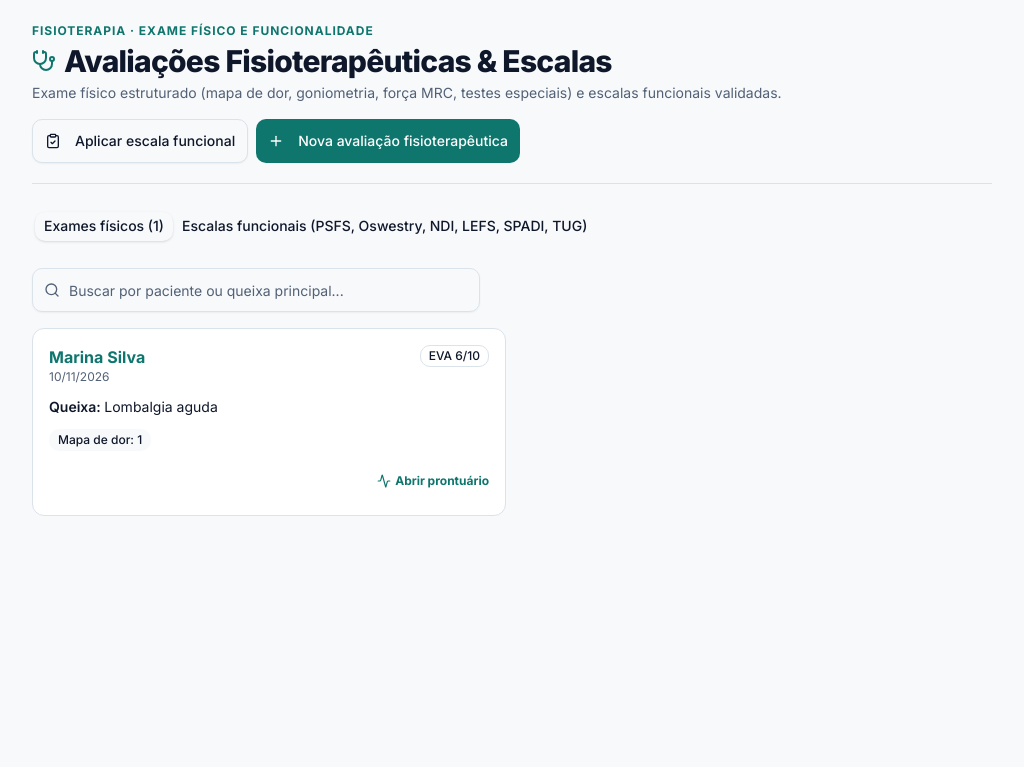
Test: Physio sidebar dedicated hubs › renders PhysioAssessmentsWorkspace using /physio-assessments without /assessments and supports functional scales tab
Expected: the text "Lombalgia aguda" is shown, x1=104 y1=398 x2=218 y2=415
Expected: the text "Mapa de dor: 1" is shown, x1=49 y1=429 x2=151 y2=451
Click the tab "Escalas funcionais (PSFS, Oswestry, NDI, LEFS, SPADI, TUG)". click: (385, 226)
box: x1=173 y1=212 x2=596 y2=240
(page scrolled)
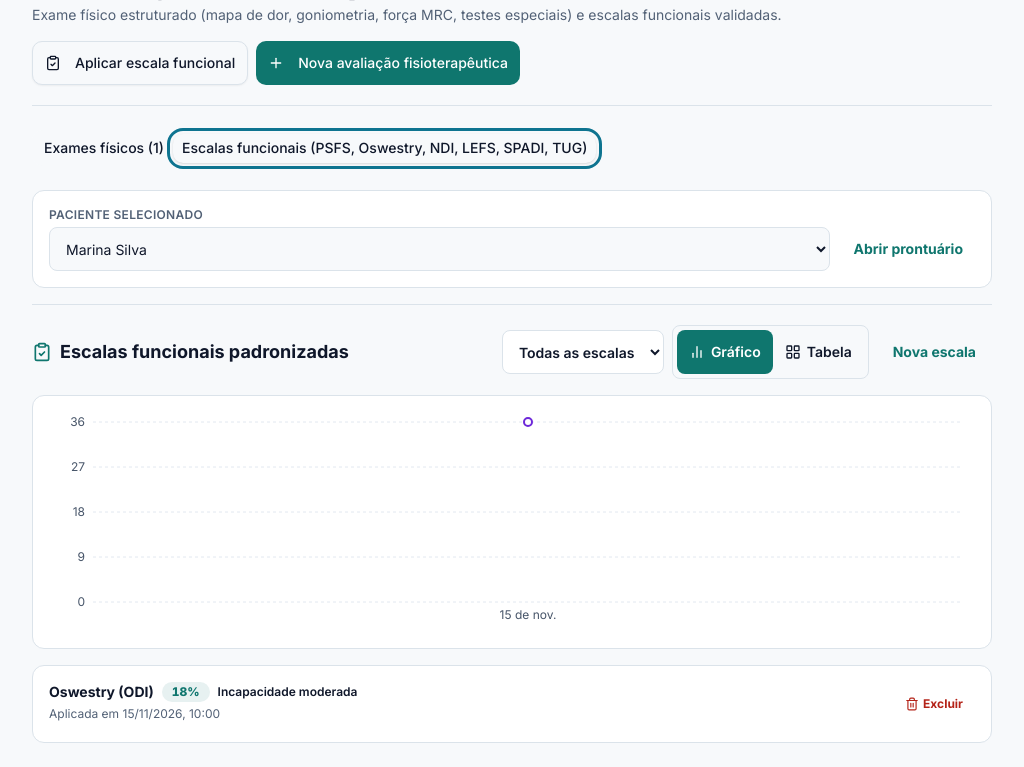
Expected: the text "Incapacidade moderada" is shown, x1=218 y1=684 x2=358 y2=700
